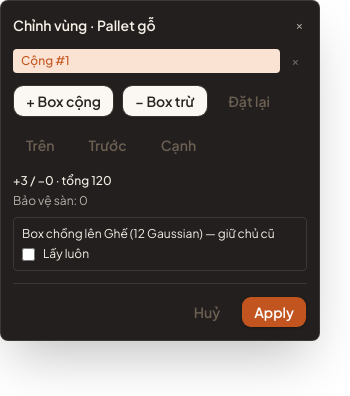
Test: panel chỉnh vùng › Lấy luôn: vật đã lấy về vẫn hiện và đang tick sau xem trước kế tiếp; bỏ tick thì yêu cầu sau không còn claim
Step 1. Click the checkbox named "Lấy luôn từ Ghế" → (28, 254), box [22,248,35,260]
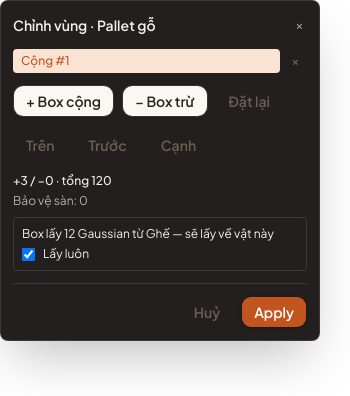
Check: the checkbox named "Lấy luôn từ Ghế" is checked
Check: the text "Box lấy 12 Gaussian từ Ghế — sẽ lấy về vật này" is shown, box [22,226,298,242]
Step 2. Click the checkbox named "Lấy luôn từ Ghế" → (28, 254), box [22,248,35,260]
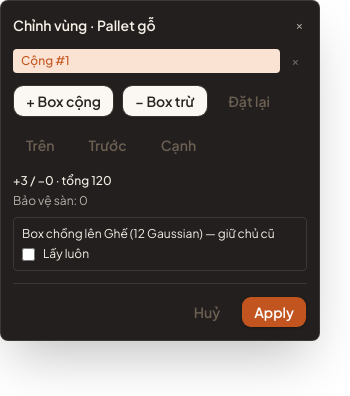
Check: the text "Box chồng lên Ghế (12 Gaussian) — giữ chủ cũ" is shown, box [22,226,298,242]
